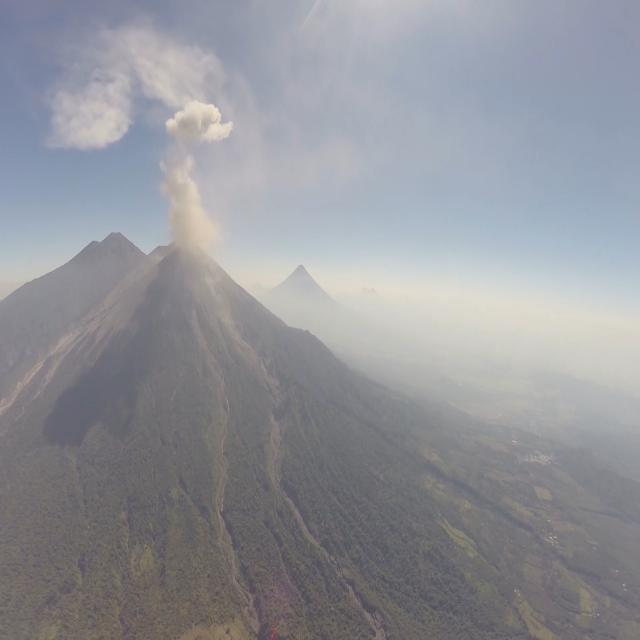Plume: (46, 50, 132, 152), (160, 152, 224, 254), (166, 95, 236, 149)
Summit: (150, 238, 228, 273)
